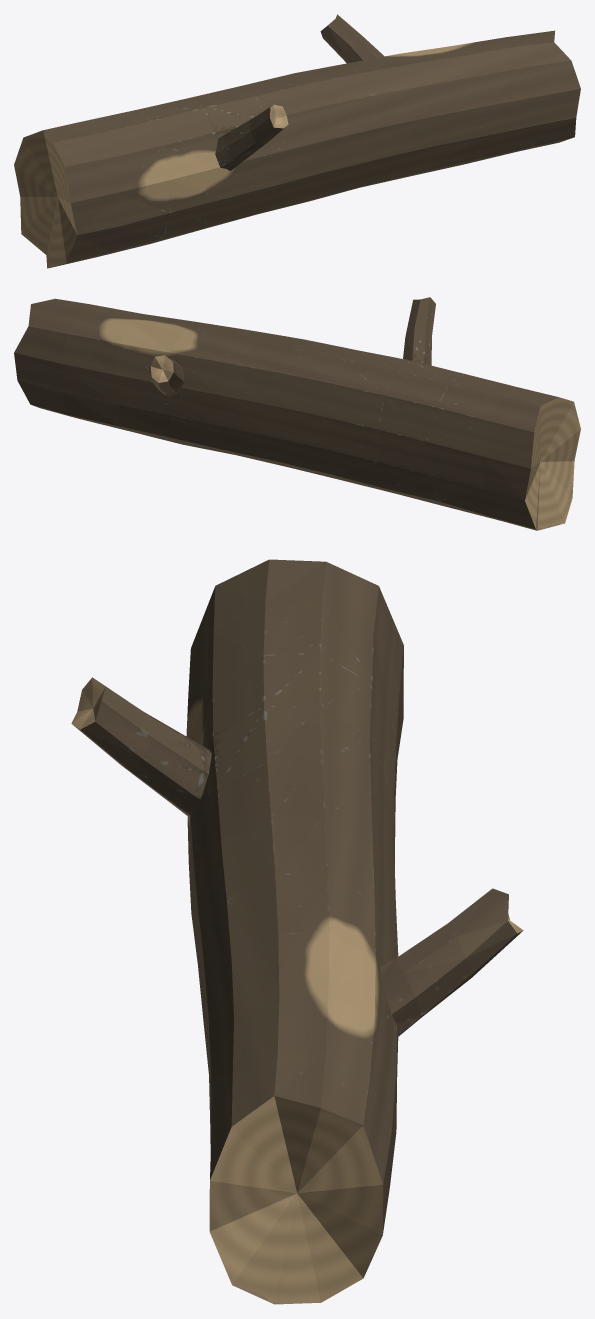
File: forest_fallen_log_short.glb
3 views of the same model, one above another, from view 1: azimuth 30°, elevation 25°; view 2: azimuth 150°, elevation 25°; view 3: azimuth 270°, elevation 25° (orthographic). The views are drawn at different scales.
Visible parts, largest first — view 1: FallenLogShort; view 2: FallenLogShort; view 3: FallenLogShort.
Part boxes in pixels (left/top/right/bottom): FallenLogShort: left=14, top=14, right=580, bottom=268; FallenLogShort: left=14, top=297, right=580, bottom=530; FallenLogShort: left=71, top=559, right=523, bottom=1304.
Size of what is drawn, in the model's own units: 2 by 0.55 by 0.75.
Materials: 1 (1 with a texture image).
